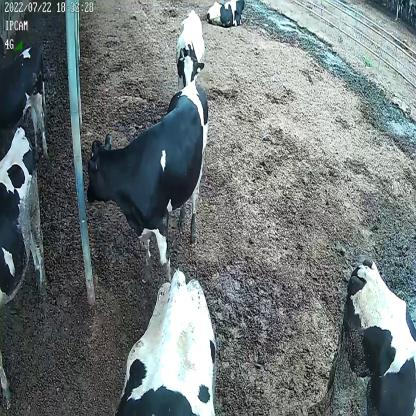cow: (86, 79, 210, 290), (177, 9, 206, 88), (205, 0, 247, 27)
